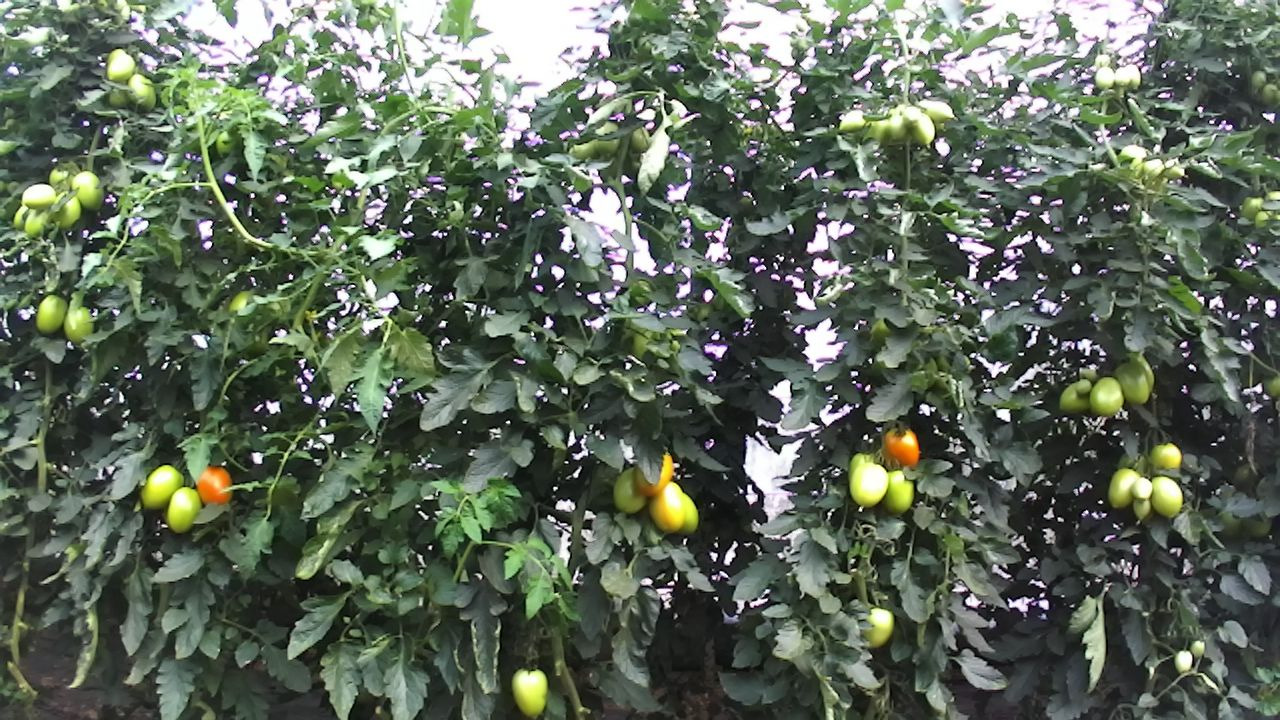tomato: (137, 462, 186, 513), (646, 477, 689, 534), (508, 665, 551, 720), (846, 459, 890, 509), (164, 485, 202, 535), (612, 465, 649, 515), (1112, 360, 1151, 407), (879, 468, 916, 517), (1147, 472, 1183, 520), (1087, 373, 1125, 418), (194, 463, 233, 506), (884, 423, 923, 466), (34, 290, 68, 337), (1104, 467, 1141, 510), (70, 168, 105, 213), (1055, 380, 1093, 418), (60, 306, 94, 344), (19, 180, 56, 210), (105, 51, 134, 83), (1128, 476, 1153, 501), (1073, 377, 1092, 397)
